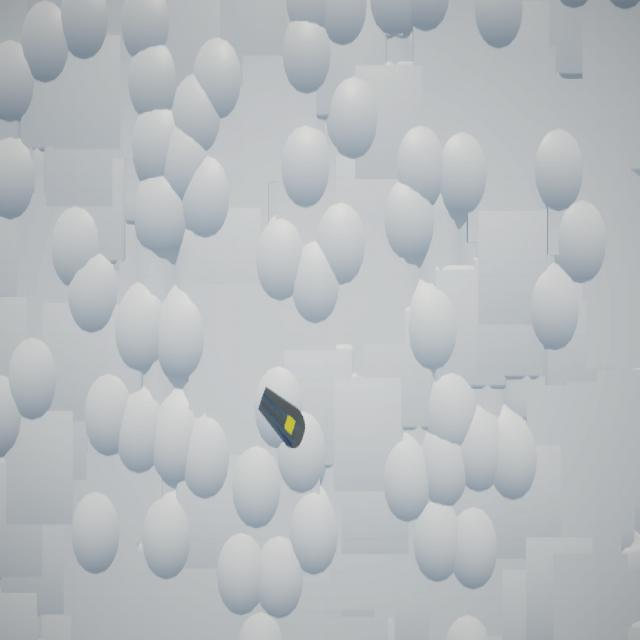handle_folk: (260, 388, 307, 450)
